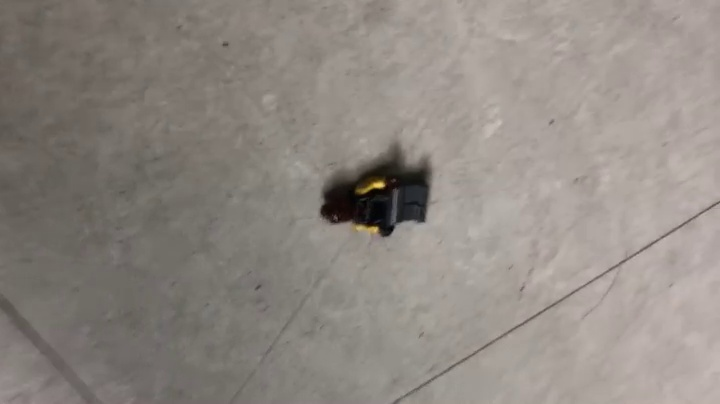people: (316, 162, 434, 239)
